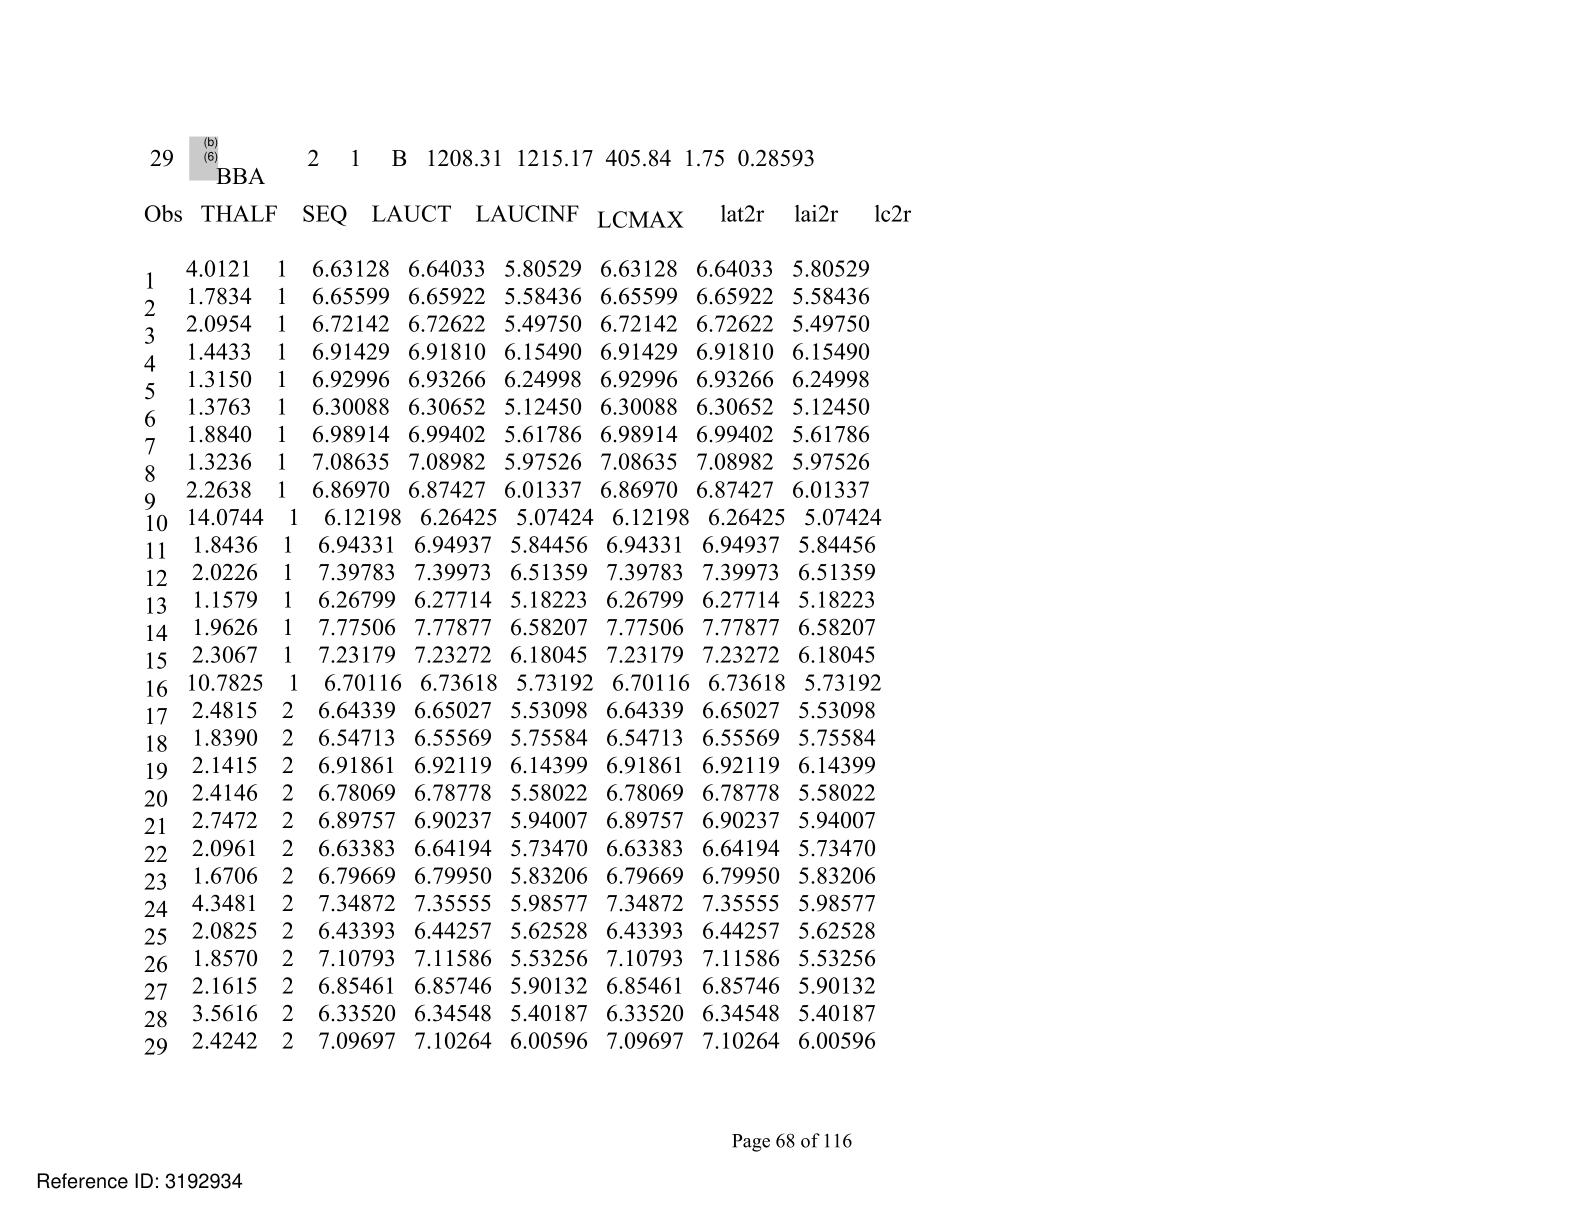nolines: (140, 201, 912, 1061)
